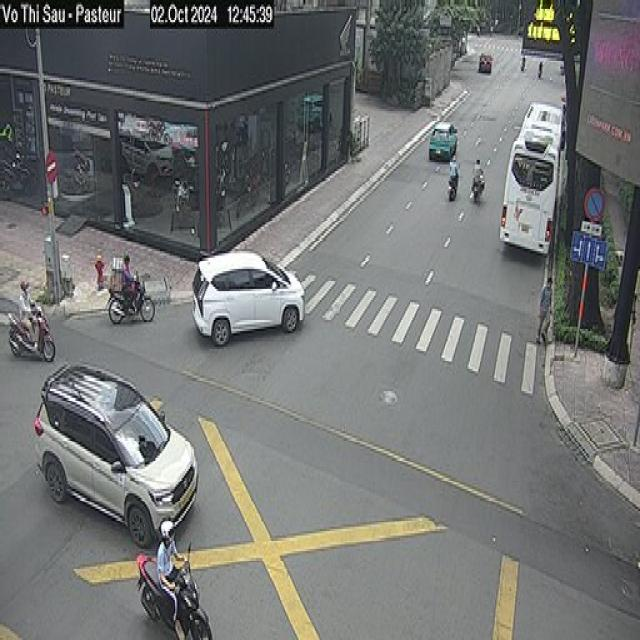bus: (502, 93, 563, 260)
car: (34, 360, 198, 547), (191, 249, 305, 347), (428, 120, 458, 160), (478, 52, 498, 86)
motorcycle: (135, 540, 213, 638), (6, 302, 55, 362), (107, 271, 155, 322), (470, 174, 490, 210), (446, 169, 459, 200)
person: (156, 518, 190, 638), (535, 276, 553, 342), (18, 278, 36, 342), (120, 254, 138, 314), (449, 154, 459, 194), (472, 158, 482, 193)
